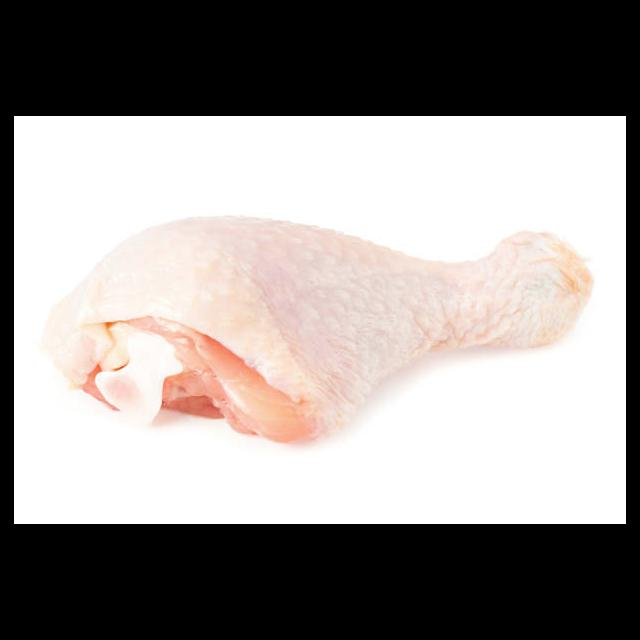chicken: (39, 211, 594, 445)
